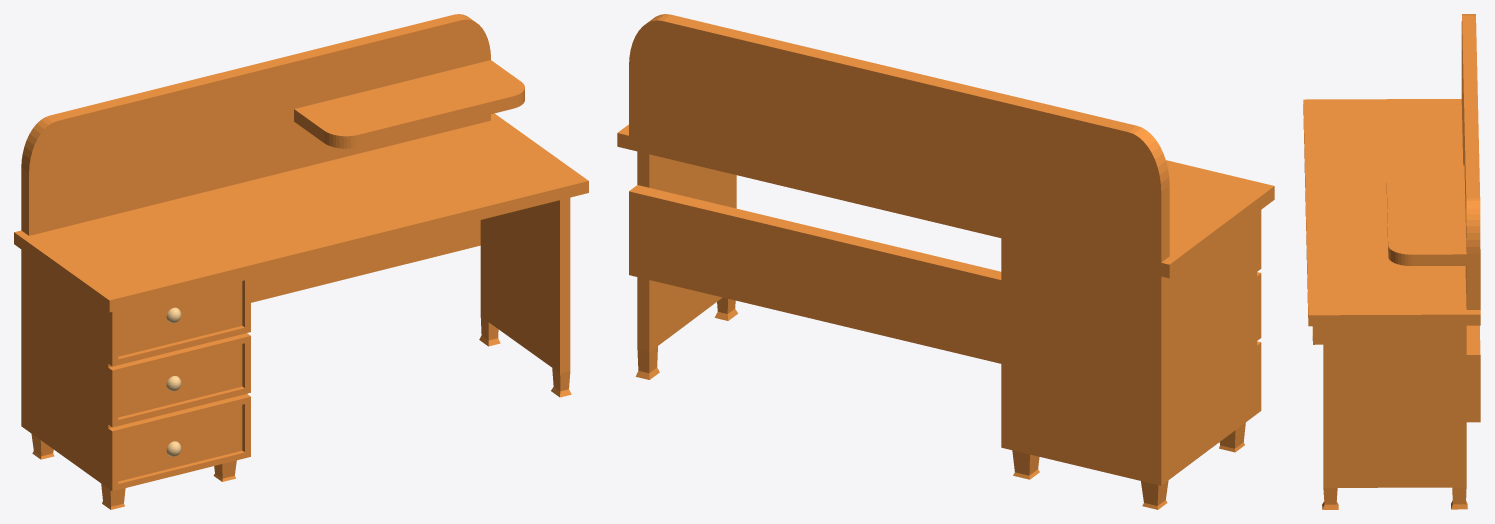
Rendered from calismamasasi.fbx.
3 views of the same model, side by side, from view 1: azimuth 30°, elevation 25°; view 2: azimuth 150°, elevation 25°; view 3: azimuth 270°, elevation 25° (orthographic). The views are drawn at different scales.
Visible parts, largest first — view 1: Cube.010; view 2: Cube.010; view 3: Cube.010.
Boxes of the visible parts, x1=… form: Cube.010: x1=14, y1=14, x2=588, y2=509; Cube.010: x1=617, y1=14, x2=1274, y2=509; Cube.010: x1=1303, y1=14, x2=1480, y2=509.
Bounding box in the file's own units: 428 × 148 × 279.
